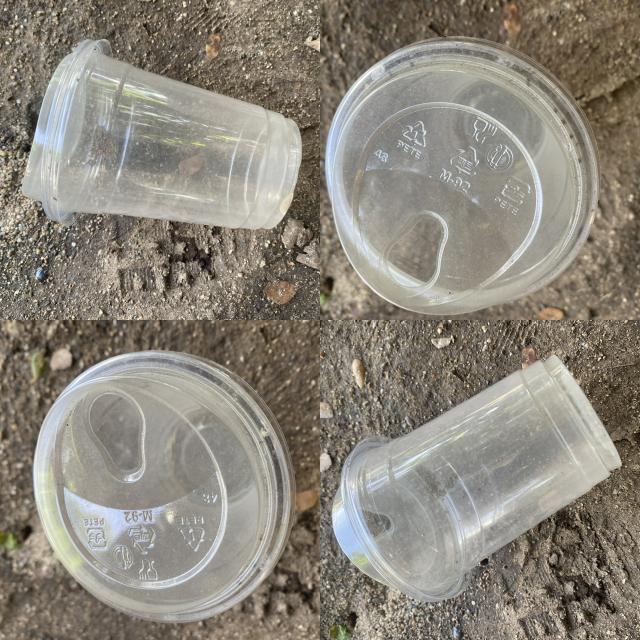Single-Use-Plastic: (326, 38, 599, 315), (332, 355, 621, 601), (34, 351, 295, 622), (22, 40, 301, 229)
